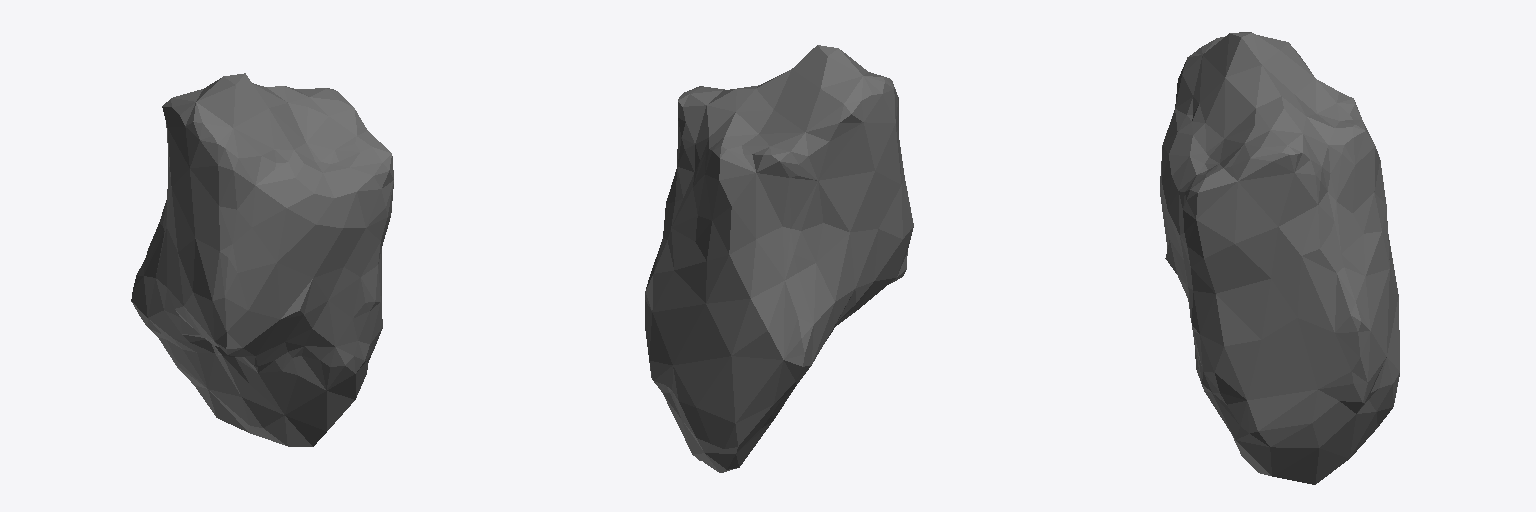
The model's file is rock01.obj.
3 renders of one model, left to right at view 1: azimuth 30°, elevation 25°; view 2: azimuth 150°, elevation 25°; view 3: azimuth 270°, elevation 25°, orthographic.
Parts seen in each view (by area): view 1: Stone_01_Untitled; view 2: Stone_01_Untitled; view 3: Stone_01_Untitled.
Boxes of the visible parts, x1,y1,x2,y2 form: Stone_01_Untitled: [131, 73, 393, 446]; Stone_01_Untitled: [645, 45, 913, 472]; Stone_01_Untitled: [1160, 32, 1399, 484].
Bounding box in the file's own units: 50.46 × 99.43 × 53.16.